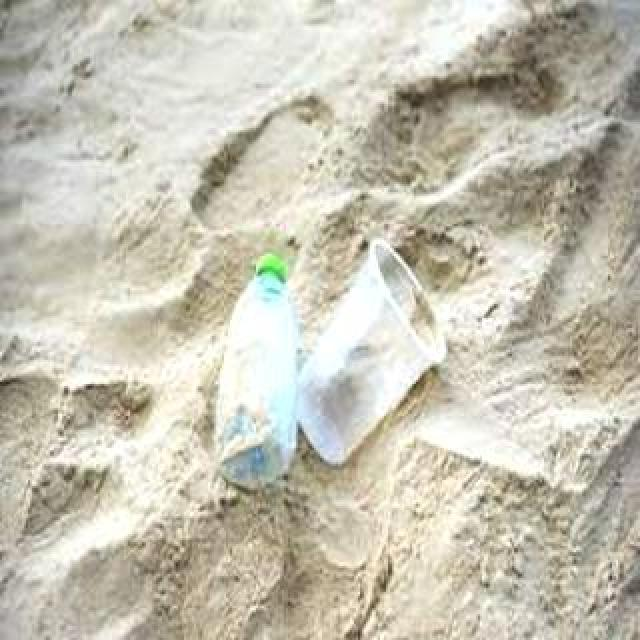Pet_Bottle: (209, 253, 305, 487)
